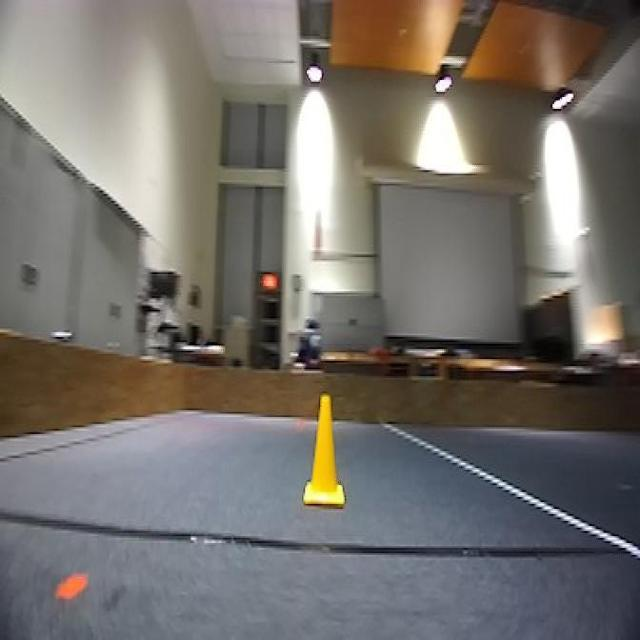frc_cone: (300, 392, 350, 511)
